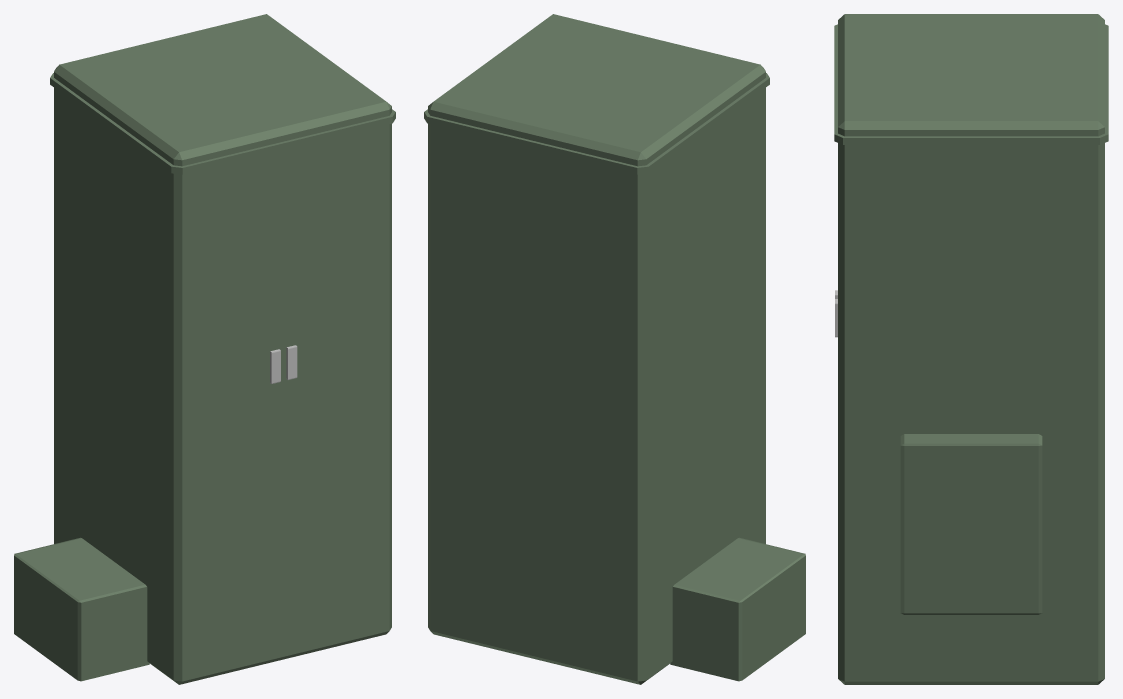
Rendered from ElectricBox.fbx.
3 renders of one model, left to right at view 1: azimuth 30°, elevation 25°; view 2: azimuth 150°, elevation 25°; view 3: azimuth 270°, elevation 25°, orthographic. The views are drawn at different scales.
Visible parts, largest first — view 1: ElectricBoxf2; view 2: ElectricBoxf2; view 3: ElectricBoxf2.
Part boxes in pixels (box(x1,y1,x2,y2)): ElectricBoxf2: box(14, 14, 395, 684); ElectricBoxf2: box(424, 14, 805, 684); ElectricBoxf2: box(834, 14, 1108, 684).
Bounding box in the file's own units: 1.57 × 2.61 × 1.15.
